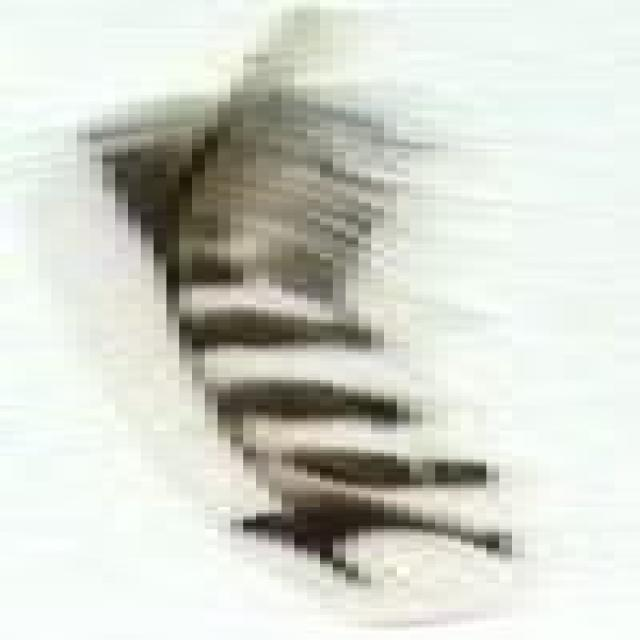feather: (58, 7, 553, 628)
